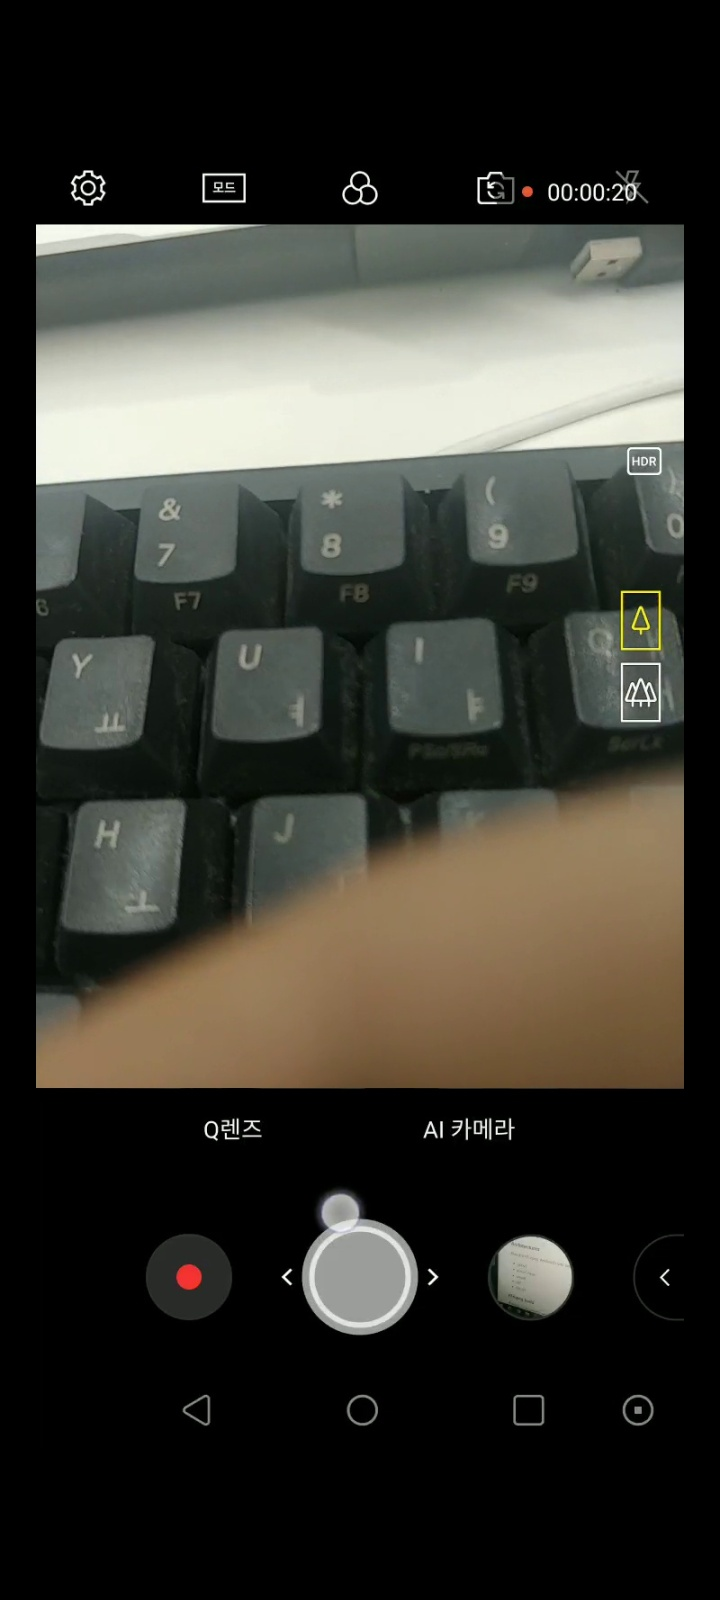Cursor: (319, 1191, 364, 1236)
